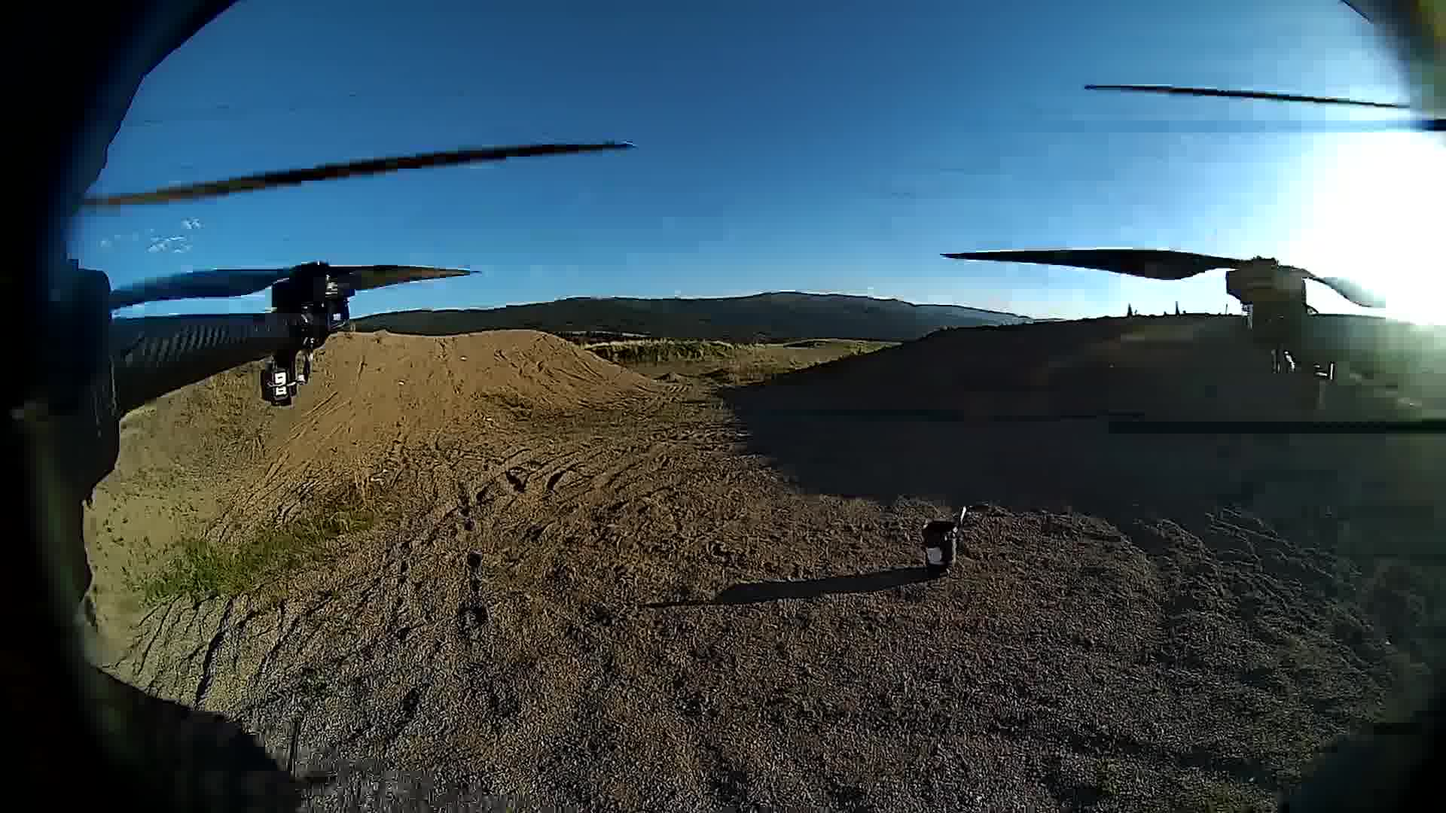Target: (925, 546, 942, 563)
